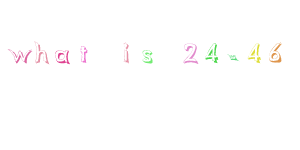-: (226, 50, 241, 68)
2: (179, 38, 197, 69)
4: (202, 34, 221, 68), (245, 40, 266, 70)
6: (267, 38, 288, 68)
a: (53, 46, 72, 68)
h: (33, 37, 51, 67)
i: (117, 40, 134, 67)
s: (136, 43, 157, 69)
t: (76, 43, 87, 64)
w: (5, 41, 33, 70)
